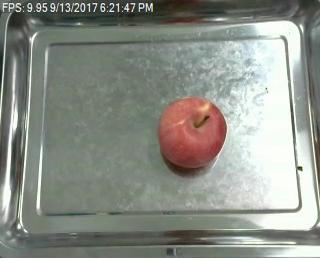apple: (158, 97, 228, 168)
